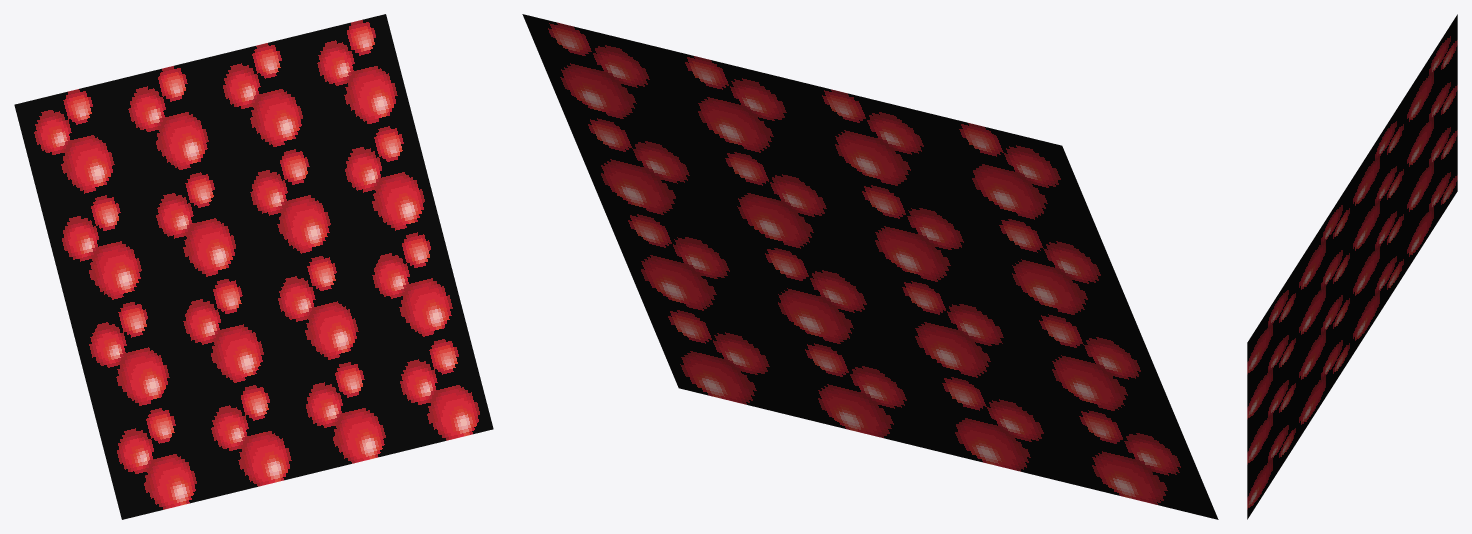
File: mi_cra.gltf
3 renders of one model, left to right at view 1: azimuth 30°, elevation 25°; view 2: azimuth 150°, elevation 25°; view 3: azimuth 270°, elevation 25°, orthographic. The views are drawn at different scales.
Parts seen in each view (by area): view 1: mi_cra; view 2: mi_cra; view 3: mi_cra.
Part boxes in pixels (<box>): mi_cra: <box>14,14,493,519</box>; mi_cra: <box>522,14,1218,519</box>; mi_cra: <box>1247,14,1457,519</box>.
Bounding box in the file's own units: 0.4395 × 0.3801 × 0.2205.
Materials: 1 (1 with a texture image).
